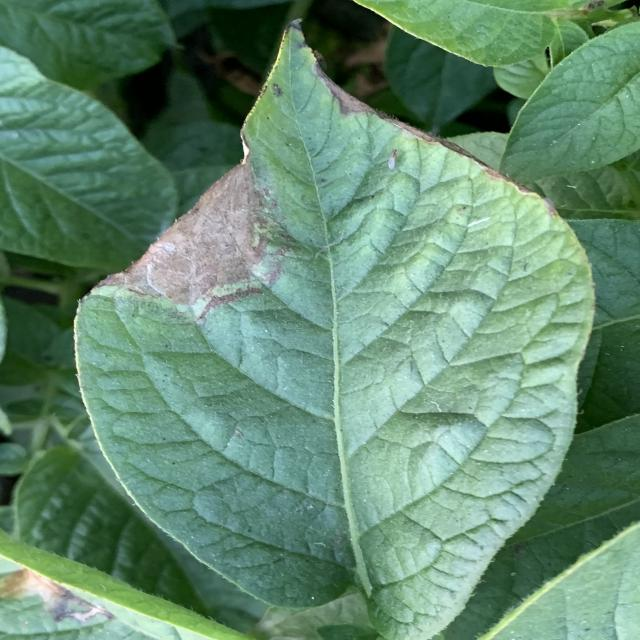lateblight: (100, 161, 262, 322), (313, 61, 478, 160), (493, 169, 525, 189), (543, 198, 558, 216)
